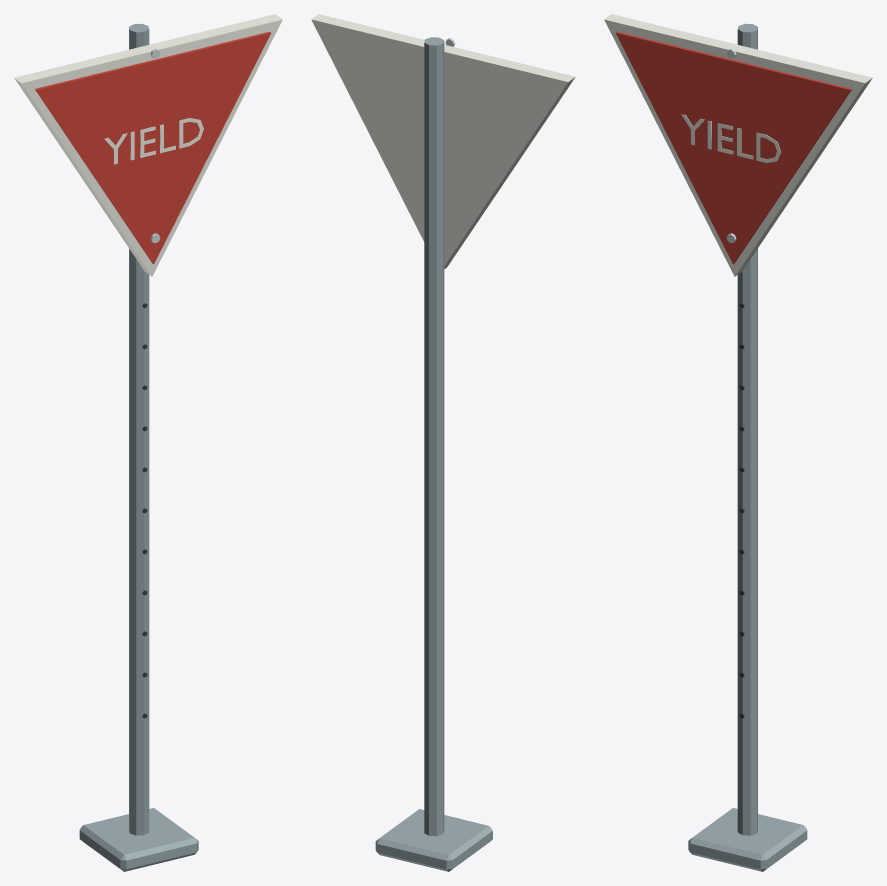
File: Sign_Yield.glb
The picture shows the model from 3 angles, left to right: view 1: azimuth 30°, elevation 25°; view 2: azimuth 150°, elevation 25°; view 3: azimuth 330°, elevation 25°; orthographic projection.
Visible parts, largest first — view 1: Sign_Yield; view 2: Sign_Yield; view 3: Sign_Yield.
Part boxes in pixels (bbox=[...]): Sign_Yield: bbox=[14, 14, 282, 871]; Sign_Yield: bbox=[311, 14, 575, 871]; Sign_Yield: bbox=[604, 14, 872, 871].
Size of the model in its own units: 0.8 by 2.4 by 0.24.
